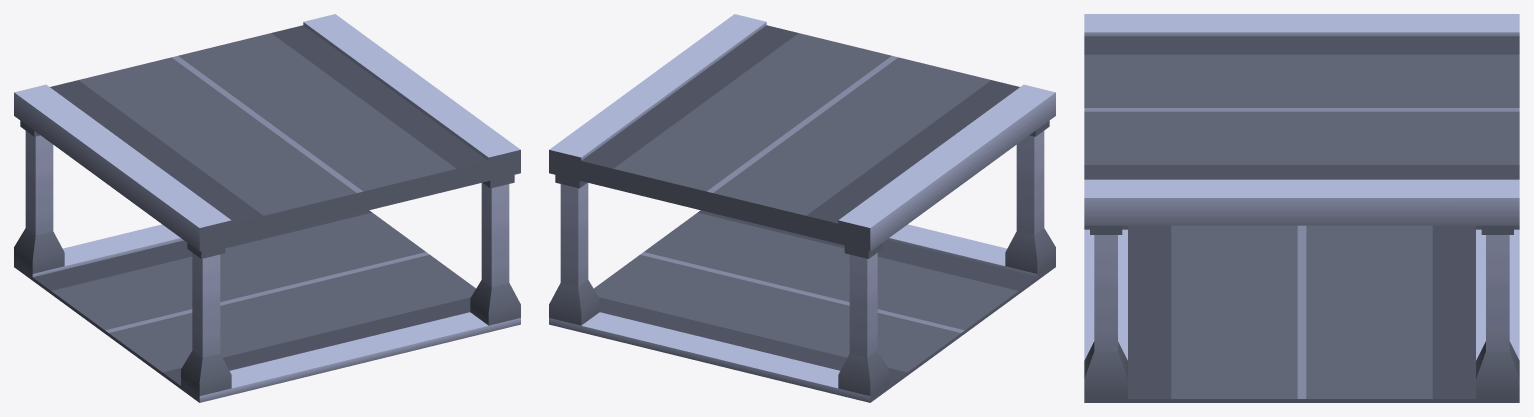
Rendered from road-bridge.glb.
3 views of the same model, side by side, from view 1: azimuth 30°, elevation 25°; view 2: azimuth 150°, elevation 25°; view 3: azimuth 270°, elevation 25° (orthographic). The views are drawn at different scales.
Parts seen in each view (by area): view 1: road-bridge; view 2: road-bridge; view 3: road-bridge.
Boxes of the visible parts, <box> form: road-bridge: <box>14,14,520,402</box>; road-bridge: <box>549,14,1055,402</box>; road-bridge: <box>1084,14,1519,402</box>.
Size of the model in its own units: 1 by 0.52 by 1.
1 material, 1 textured.
